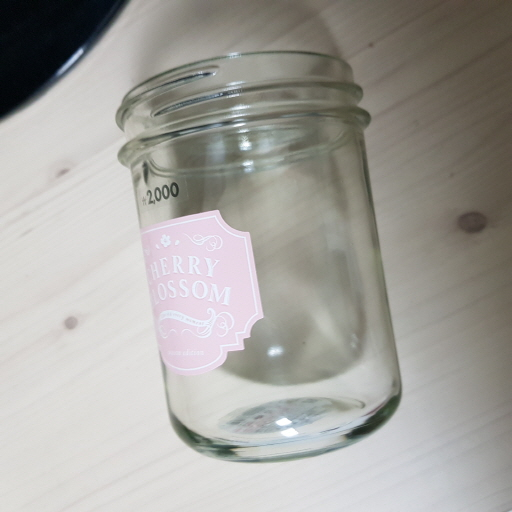Glass_5: (112, 45, 405, 461)
